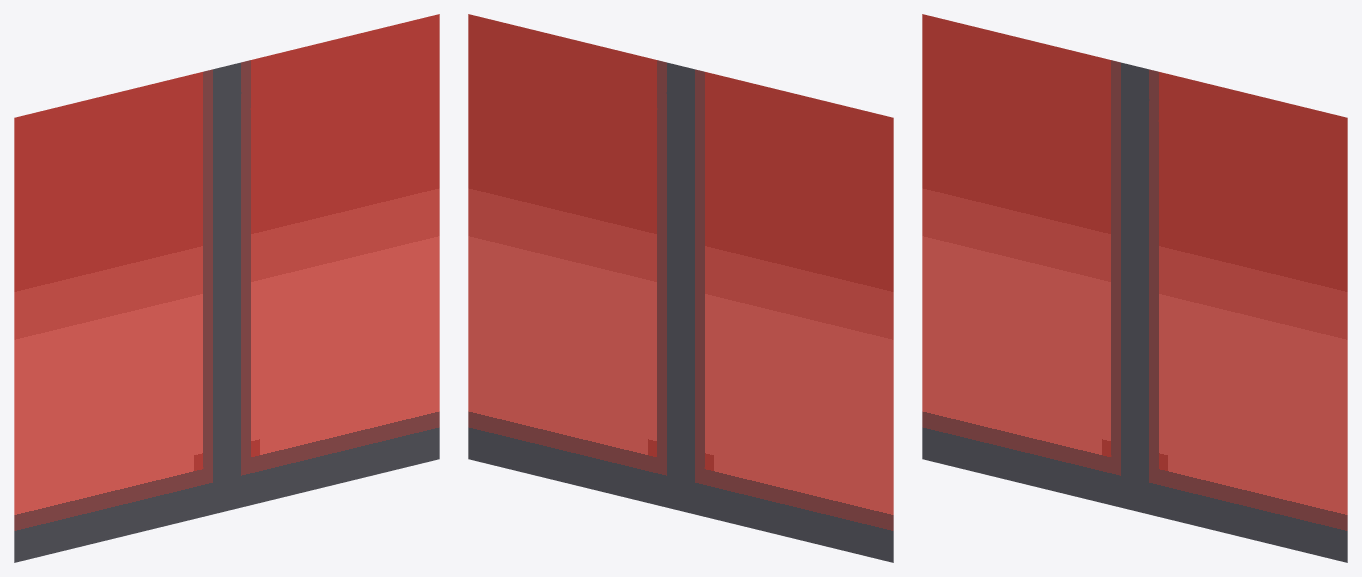
3 renders of one model, left to right at view 1: azimuth 30°, elevation 25°; view 2: azimuth 150°, elevation 25°; view 3: azimuth 330°, elevation 25°, orthographic.
Size of the model in its own units: 1.75 by 1.75 by 0.
1 material, 1 textured.
